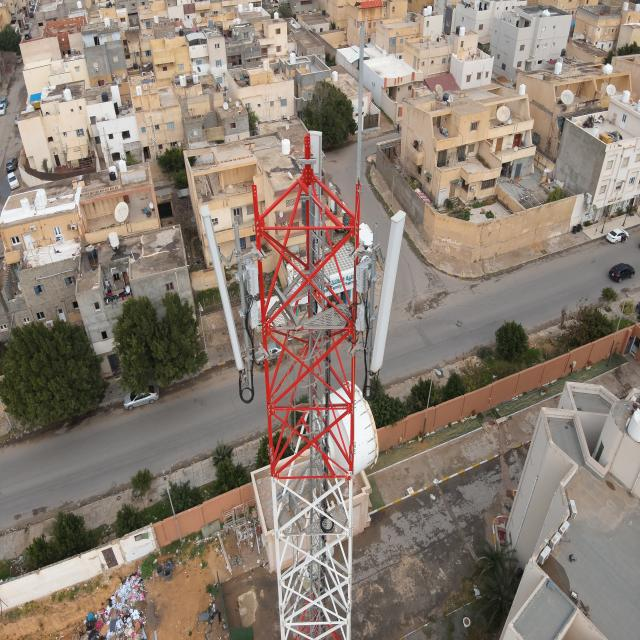Ground Based: (250, 21, 409, 640)
